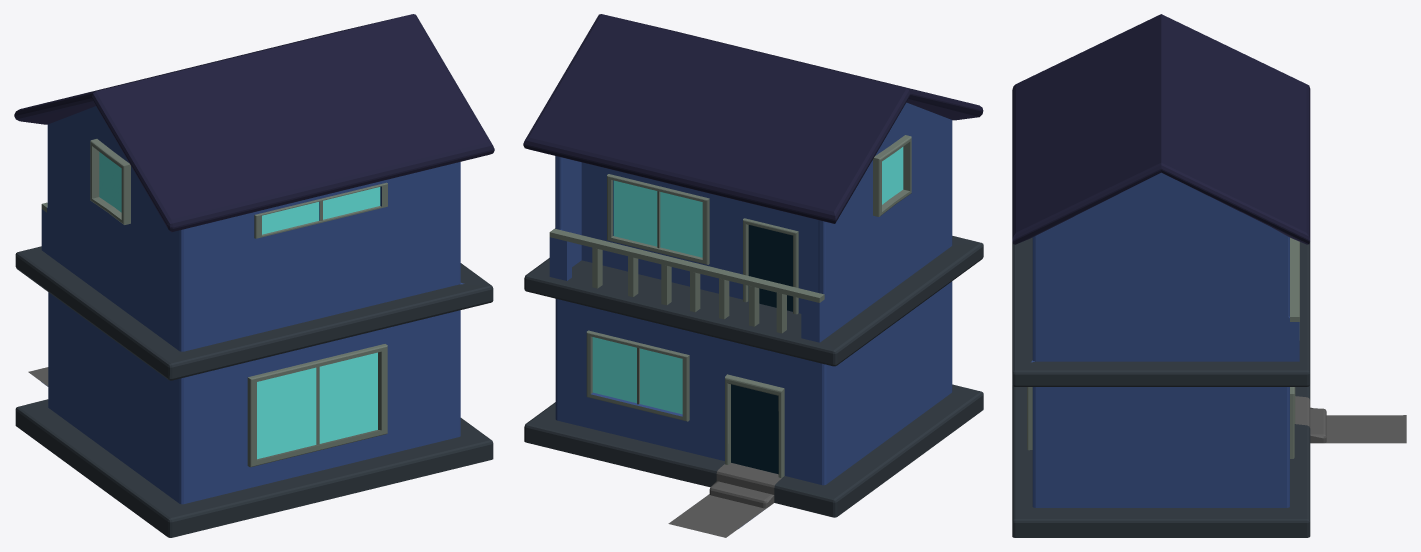
Rendered from house-2F.fbx.
3 renders of one model, left to right at view 1: azimuth 30°, elevation 25°; view 2: azimuth 150°, elevation 25°; view 3: azimuth 270°, elevation 25°, orthographic. The views are drawn at different scales.
Parts seen in each view (by area): view 1: Cube; view 2: Cube; view 3: Cube.
Boxes of the visible parts, x1=… form: Cube: x1=14, y1=14, x2=494, y2=537; Cube: x1=523, y1=14, x2=983, y2=537; Cube: x1=1012, y1=14, x2=1406, y2=537.
Size of the model in its own units: 1313 by 1502 by 1437.
